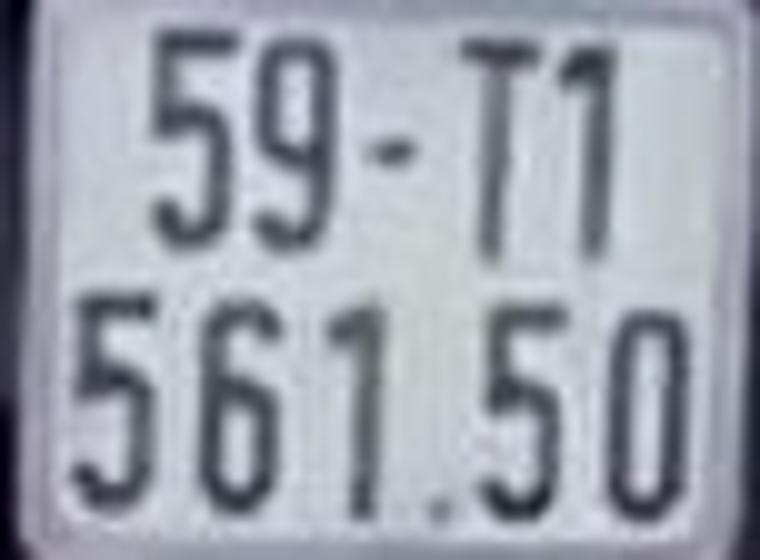-: (362, 138, 416, 166)
.: (425, 497, 452, 526)
0: (603, 308, 687, 518)
1: (319, 305, 386, 516), (560, 43, 614, 255)
5: (69, 291, 151, 512), (481, 307, 565, 520), (147, 32, 231, 238)
6: (187, 302, 284, 505)
9: (253, 35, 338, 245)
T: (460, 35, 534, 255)
